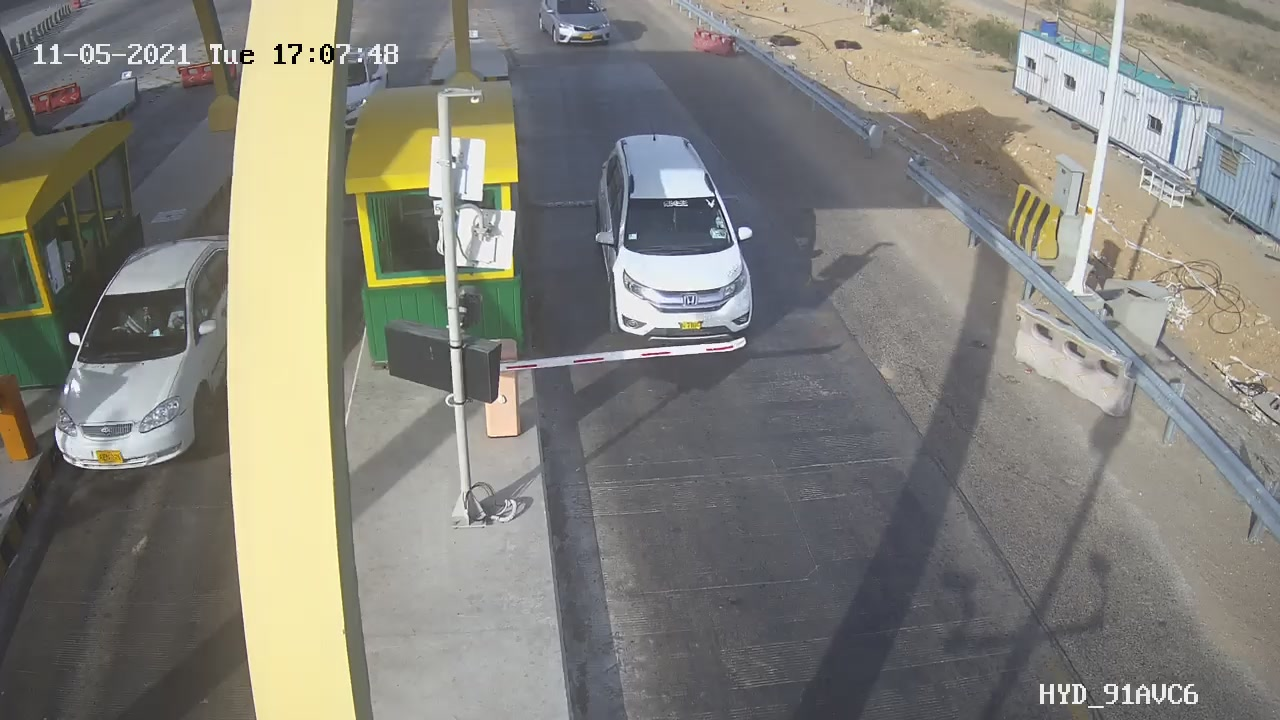F1: (569, 113, 779, 365)
